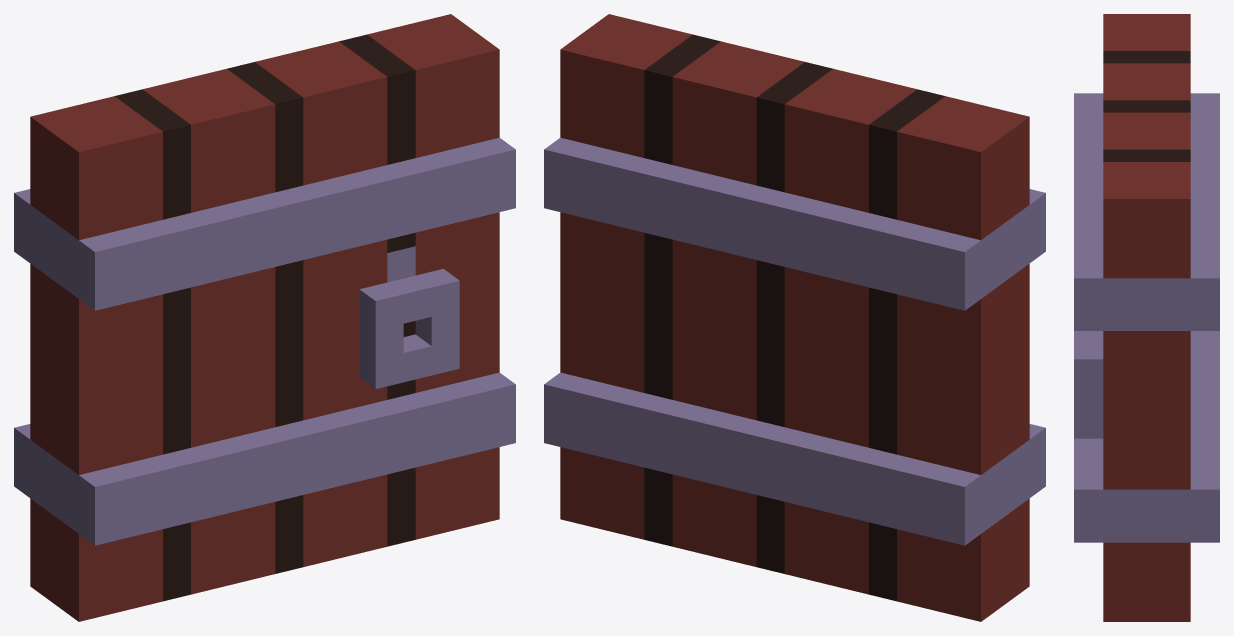
Rendered from door_b_b.obj.
3 renders of one model, left to right at view 1: azimuth 30°, elevation 25°; view 2: azimuth 150°, elevation 25°; view 3: azimuth 270°, elevation 25°, orthographic. The views are drawn at different scales.
Size of the model in its own units: 1.5 by 1.6 by 0.5.
1 material, 1 textured.
